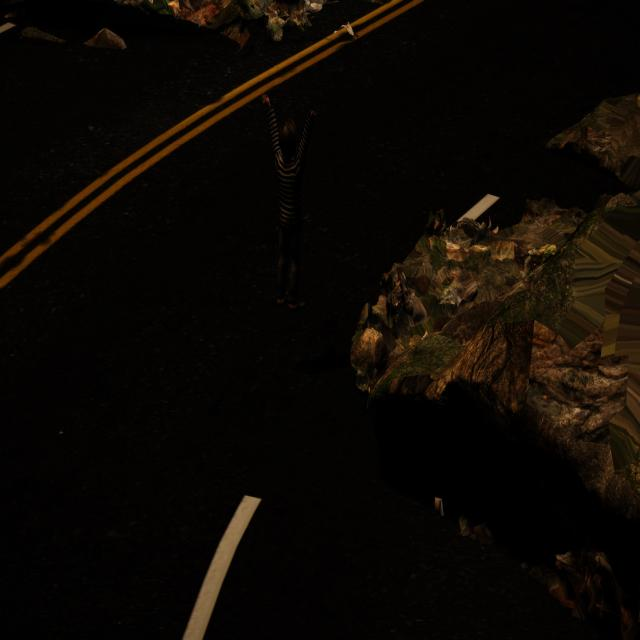Human: (259, 89, 317, 325)
